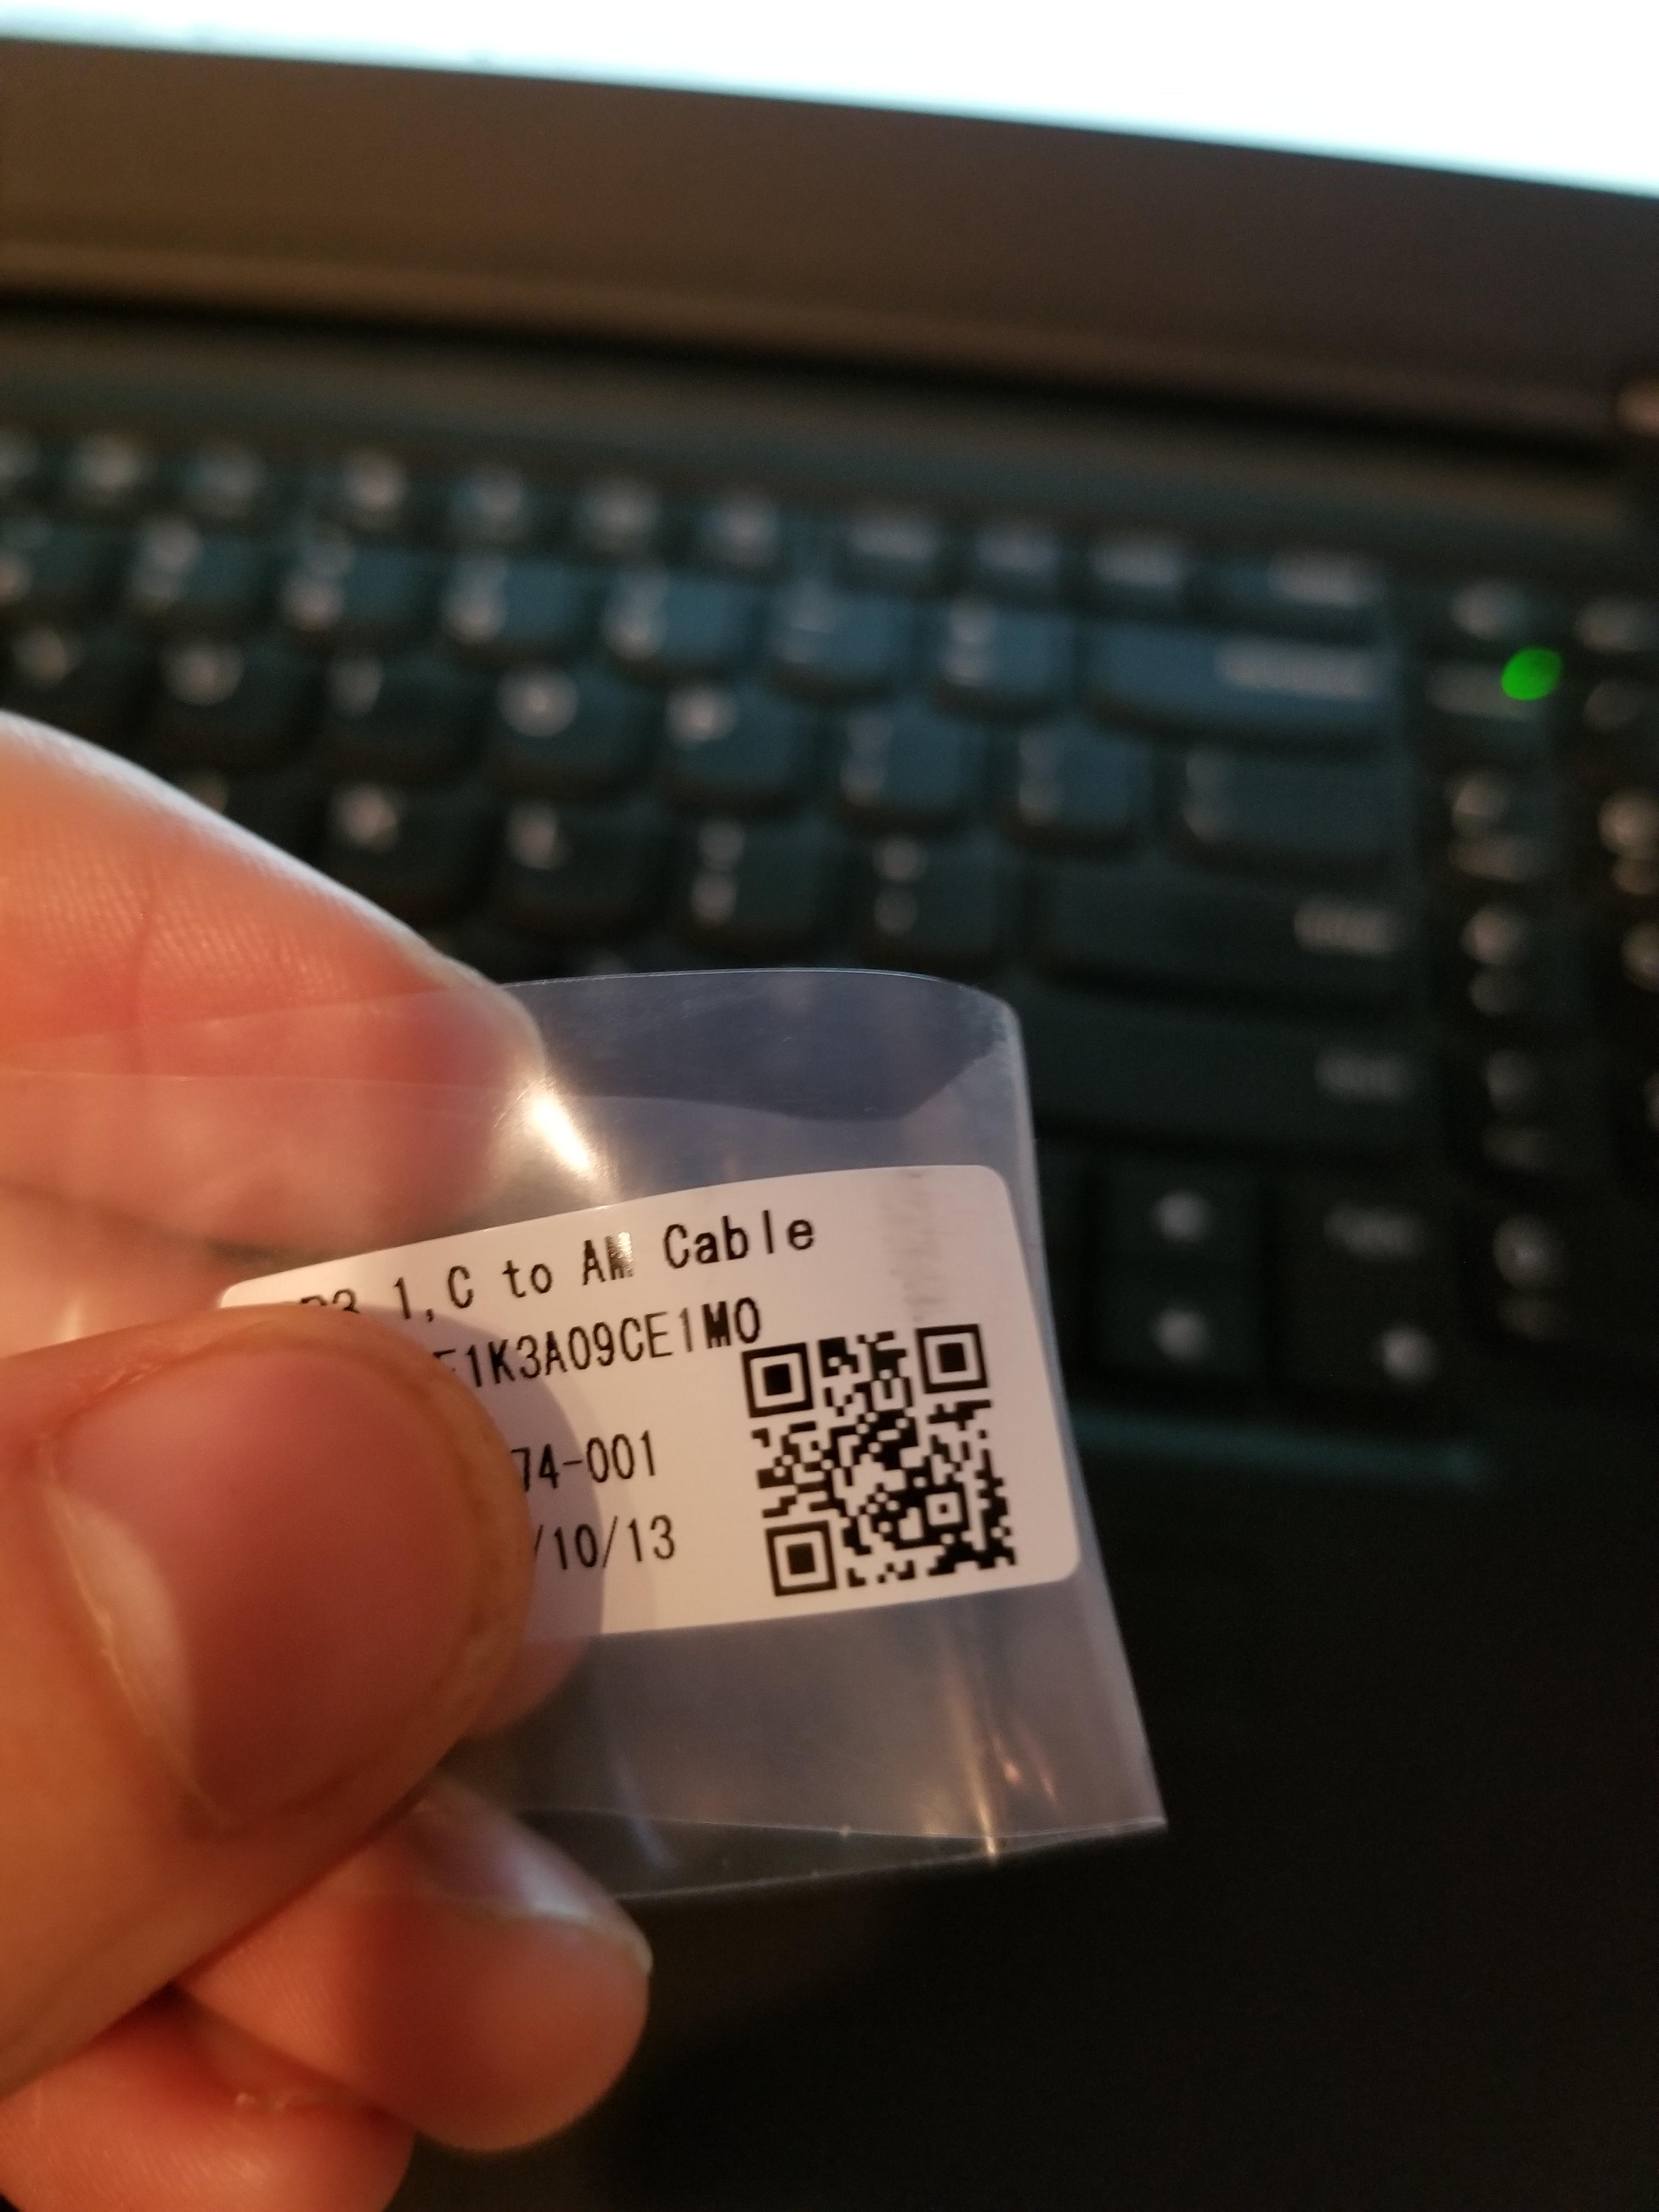QR_CODE: (720, 1280, 1056, 1635)
